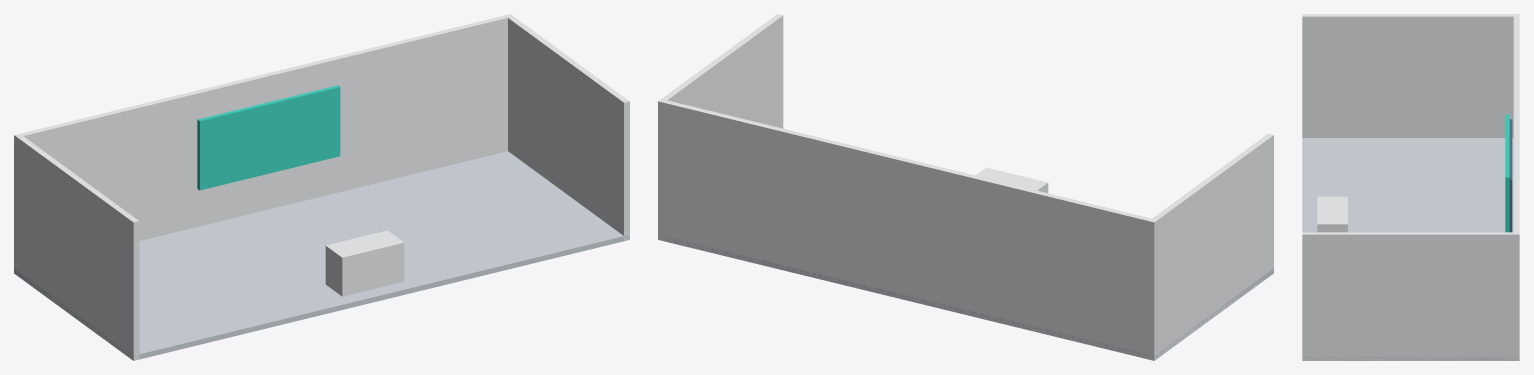
The picture shows the model from 3 angles, left to right: view 1: azimuth 30°, elevation 25°; view 2: azimuth 150°, elevation 25°; view 3: azimuth 270°, elevation 25°; orthographic projection. The views are drawn at different scales.
Visible parts, largest first — view 1: Exhibition Booth Concept; view 2: Exhibition Booth Concept; view 3: Exhibition Booth Concept.
Part boxes in pixels (x1,y1,x2,y2): Exhibition Booth Concept: [14, 14, 629, 360]; Exhibition Booth Concept: [658, 14, 1273, 360]; Exhibition Booth Concept: [1302, 14, 1519, 360].
Size of the model in its own units: 12 by 3.2 by 5.
